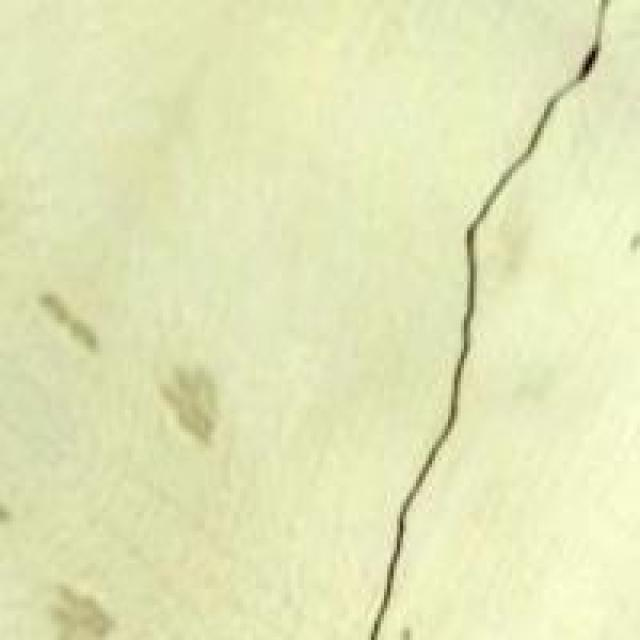crack: (342, 0, 637, 637)
